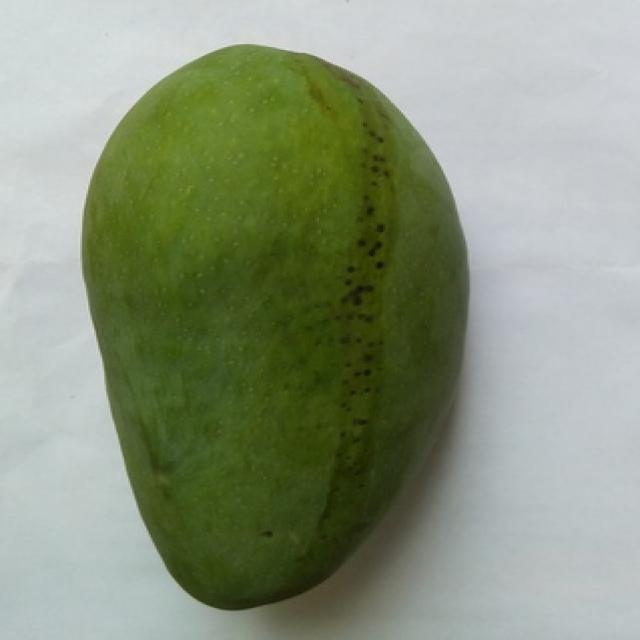Mango: (82, 45, 465, 608)
